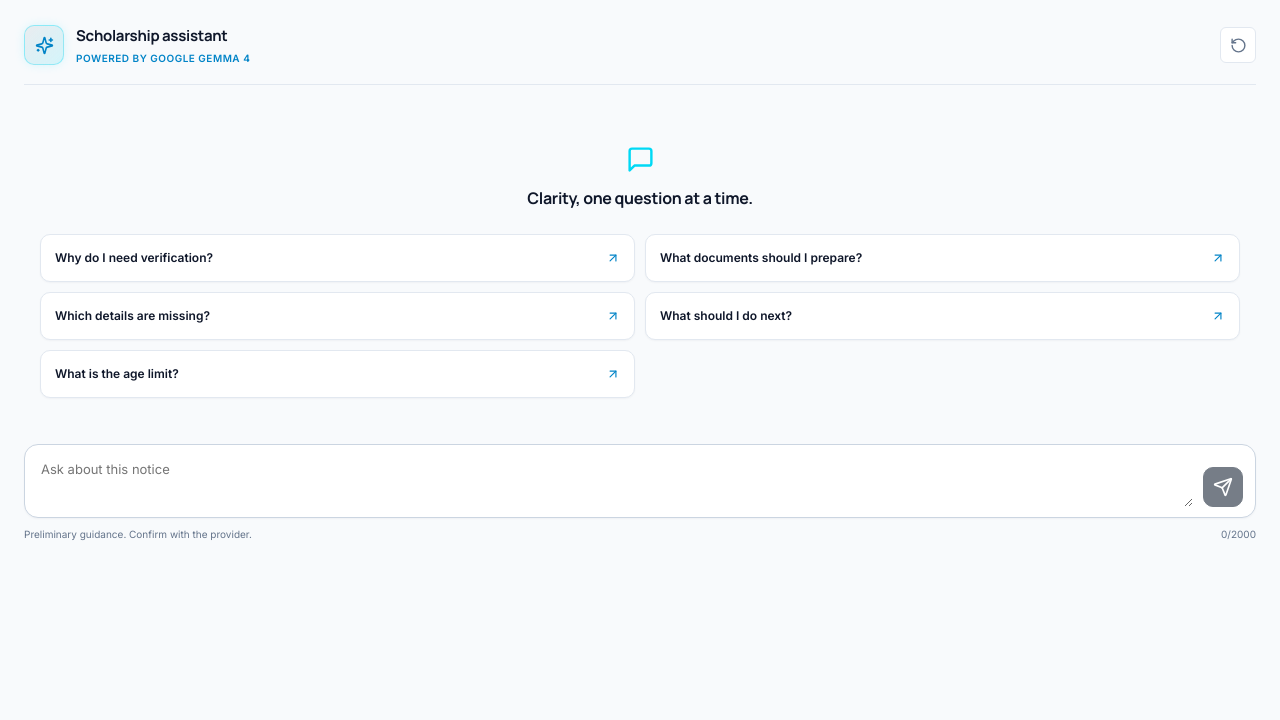
Test case: recovers from a chat failure without duplicating the question
Type "Why?" into the text box labelled "Ask about this notice".
click(615, 481); type("Why?")  # box left=37, top=455, right=1193, bottom=507
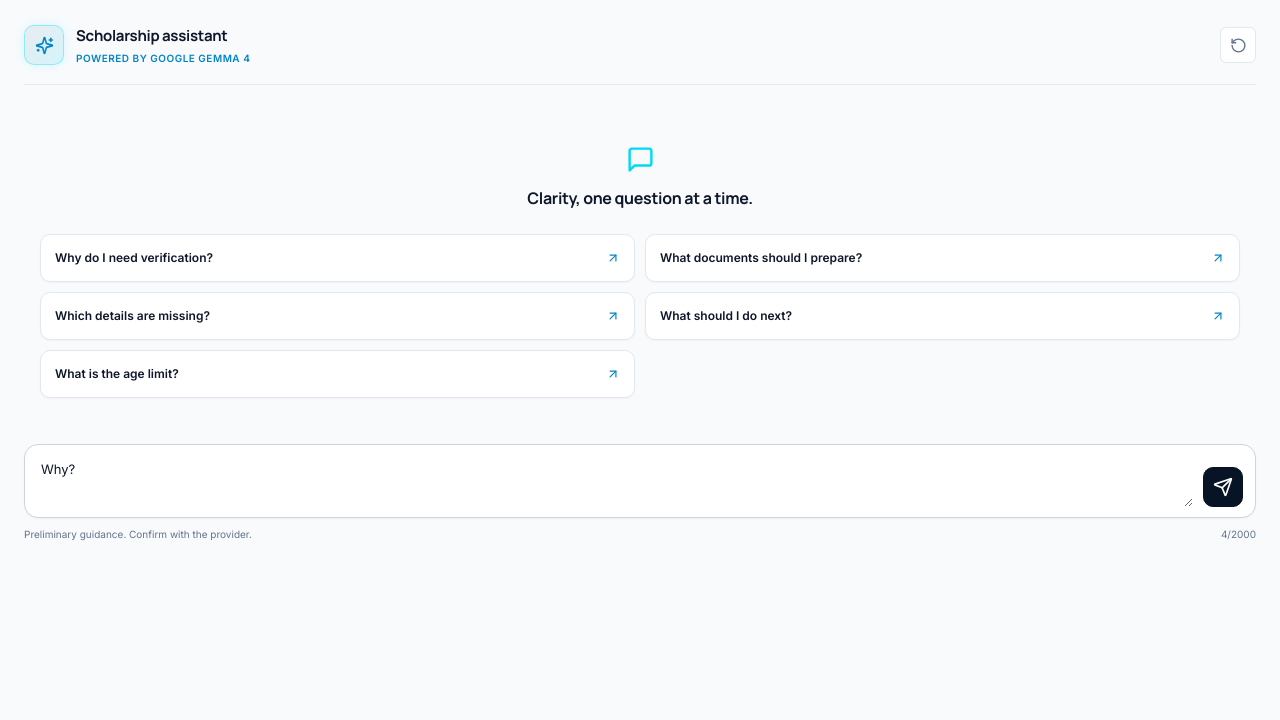
Click the button named "Send question".
click(1223, 487)  # box left=1203, top=467, right=1243, bottom=507
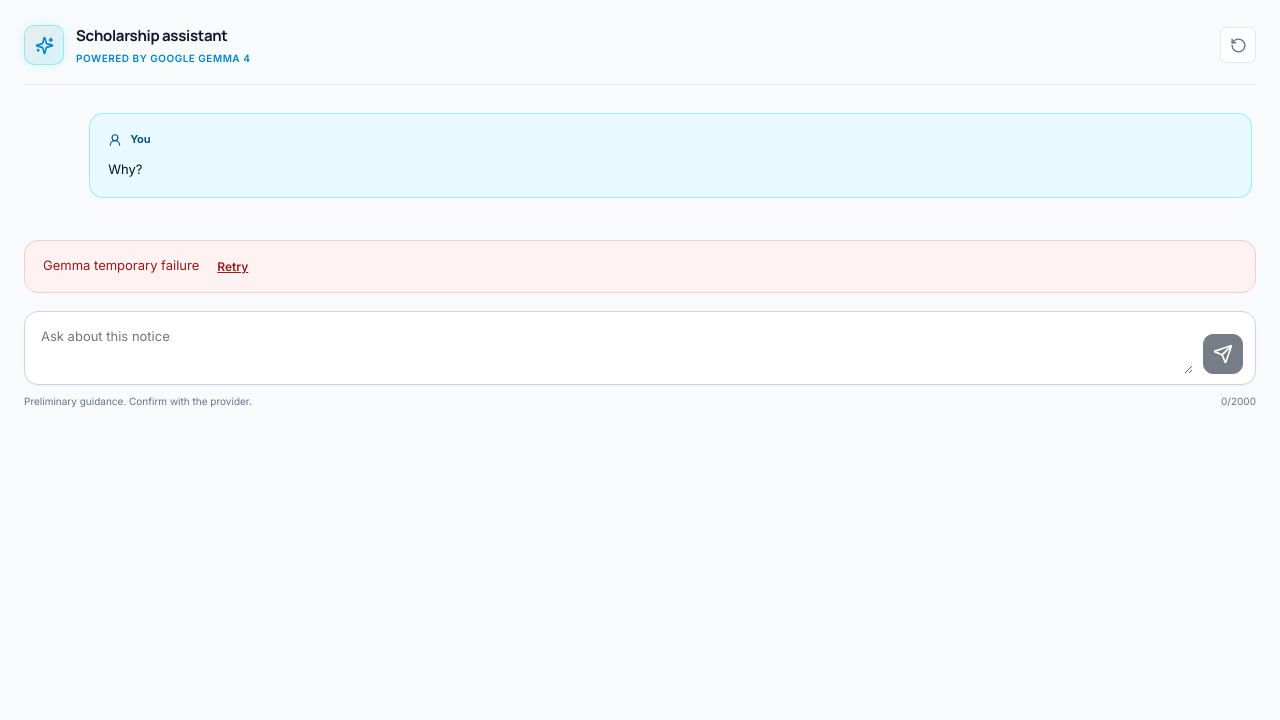
Click the button "Retry".
click(233, 267)  # box left=211, top=255, right=254, bottom=278
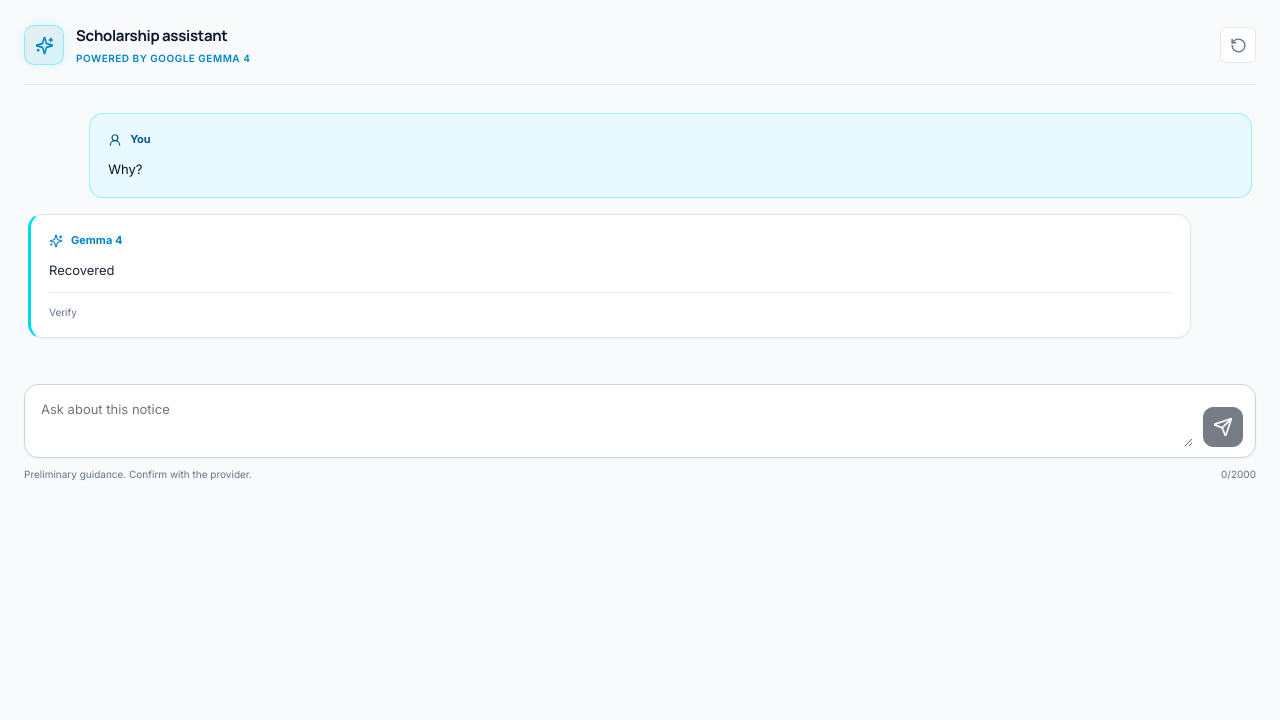
Expected: the text "Why?" is shown once, left=108, top=161, right=142, bottom=177
Expected: the text "Recovered" is shown, left=49, top=262, right=115, bottom=278
